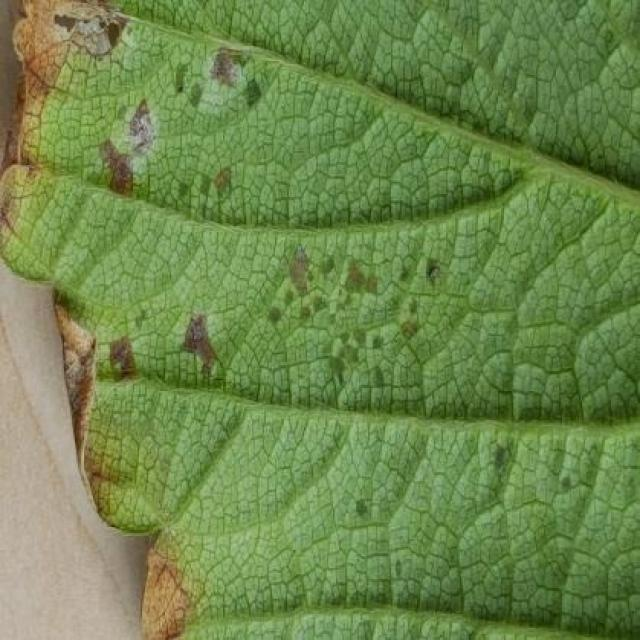Angular Leafspot: (0, 0, 596, 638)
